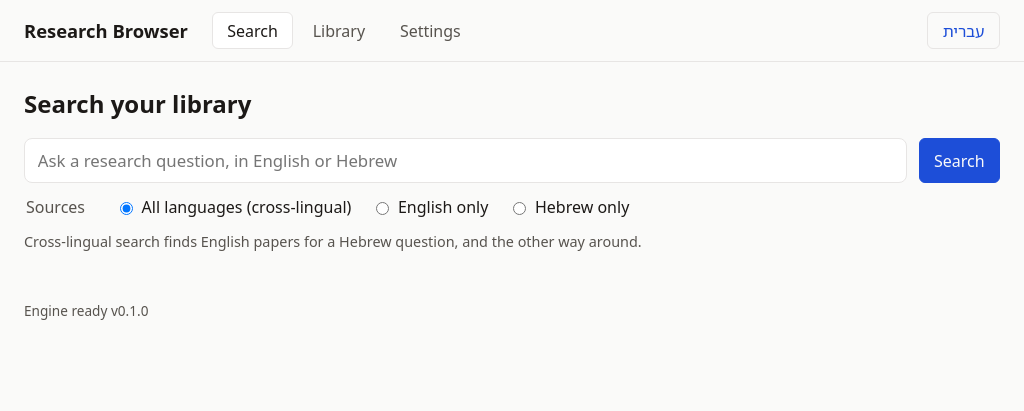
Test case: App › switches to Hebrew and flips the document to RTL
Expected: the text "Engine ready" is shown, [24,301,107,320]
Click the button "עברית".
click(964, 31)  # box [927,12,1000,49]
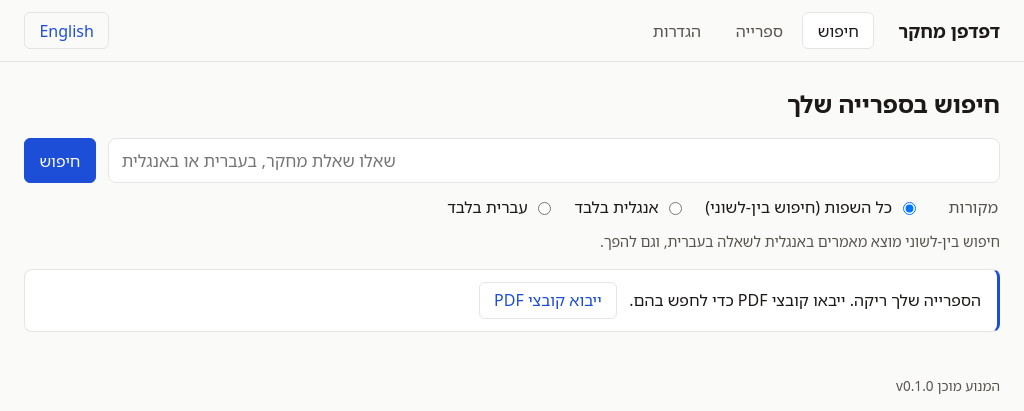
Result: the text "דפדפן מחקר" is shown at [898,17,1000,44]
Result: the heading reads "חיפוש בספרייה שלך" at [787,87,1000,120]
